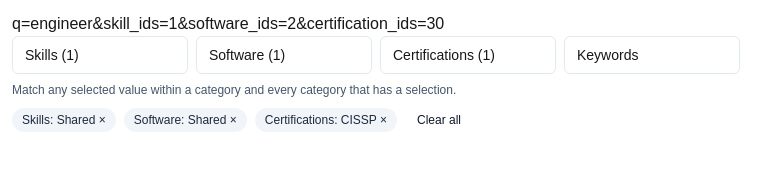
Test: TaxonomyFilters › isolates same-name values by category, removes one chip, and clears all remaining filters
The image size is (757, 172).
expect the button with aria-label "Remove Software filter Shared" is shown: met, box x1=124 y1=108 x2=247 y2=132
What coordinates should you click on to do the following:
click the button with aria-label "Remove Skills filter Shared"
I would click on:
 (64, 120)
Its box is x1=12 y1=108 x2=116 y2=132.
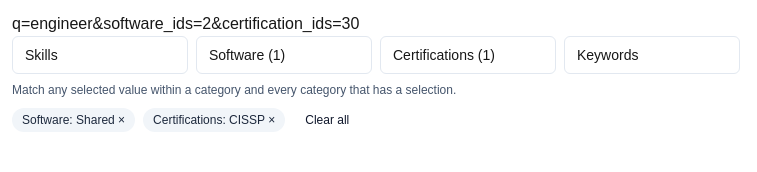
expect the text with test id "params" shows "software_ids=2": met, box x1=12 y1=15 x2=359 y2=32
expect the text with test id "params" no longer shows "skill_ids": met
What coordinates should you click on to do the following:
click the button with aria-label "Clear all 2 taxonomy filters"
I would click on:
 (327, 120)
Its box is x1=293 y1=106 x2=361 y2=134.
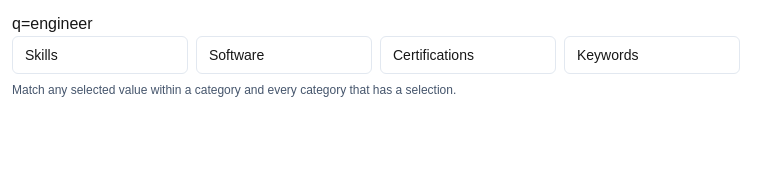
expect the text with test id "params" reads "q=engineer": met, box x1=12 y1=15 x2=92 y2=32
expect the text with test id "params" no longer shows "_ids": met
